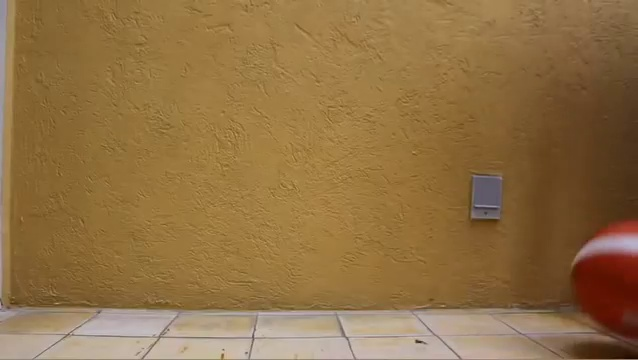ball: (570, 219, 634, 345)
